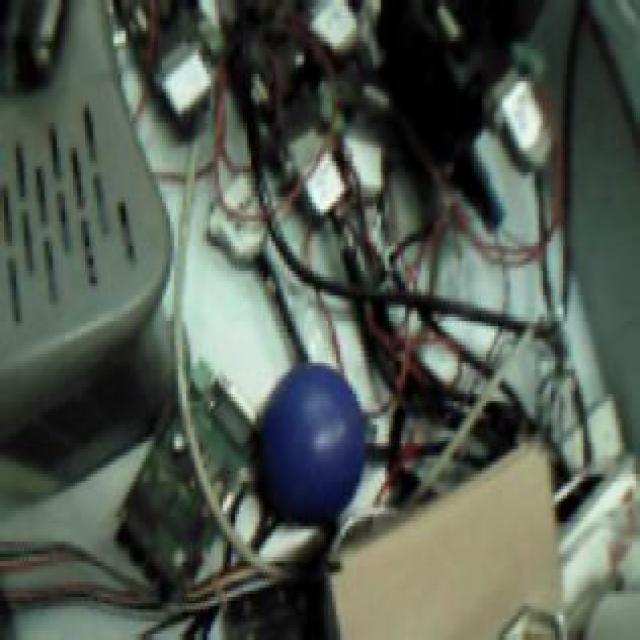BallPurple: (257, 364, 366, 526)
